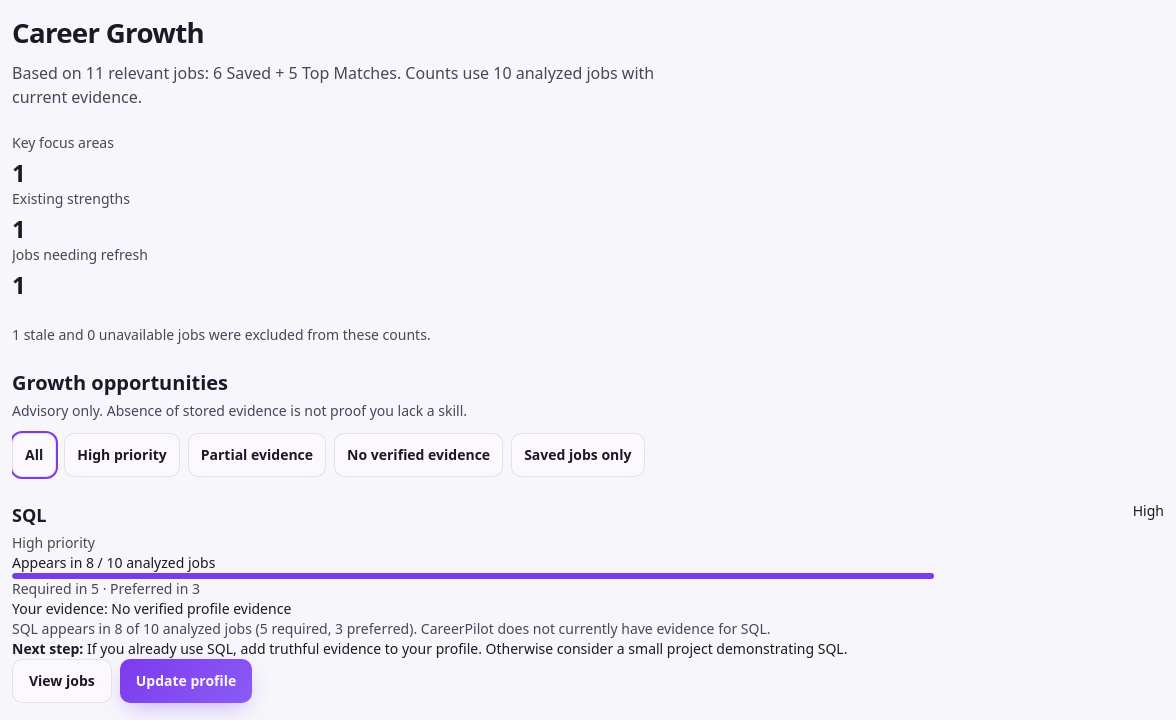
GrowthPage › filters high priority and unknown evidence
Expected: the heading "SQL" is shown, [12,504,46,528]
Click the button "High priority" at (122,456), box [64,434,180,478]
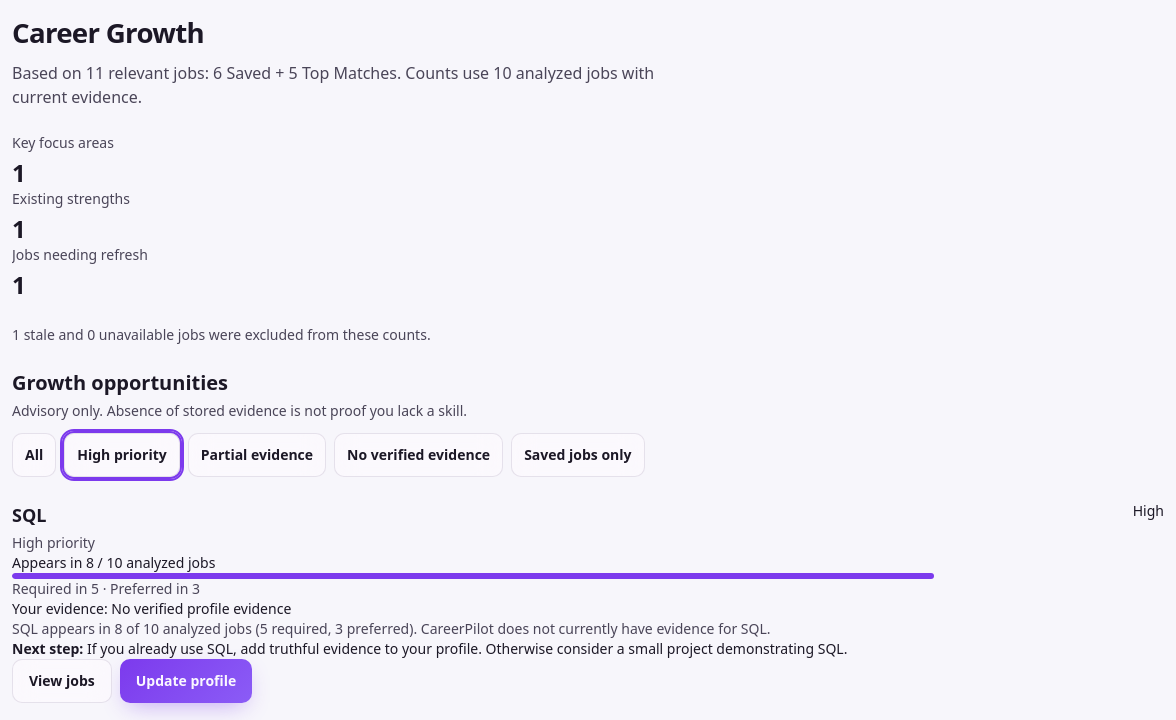
Expected: the heading "SQL" is shown, [12,504,46,528]
Click the button "Partial evidence" at (257,456), box [188,434,326,478]
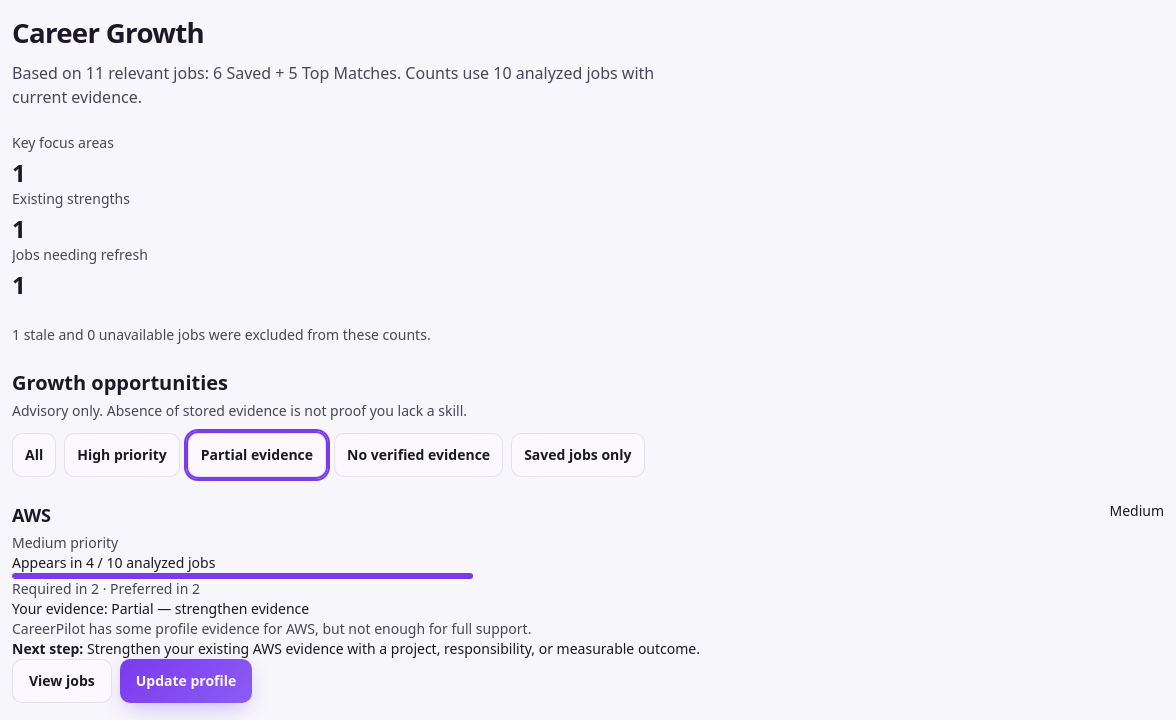
Expected: the heading "AWS" is shown, [12,504,51,528]
Expected: the heading "SQL" is gone
Click the button "No verified evidence" at (419,456), box [334,434,503,478]
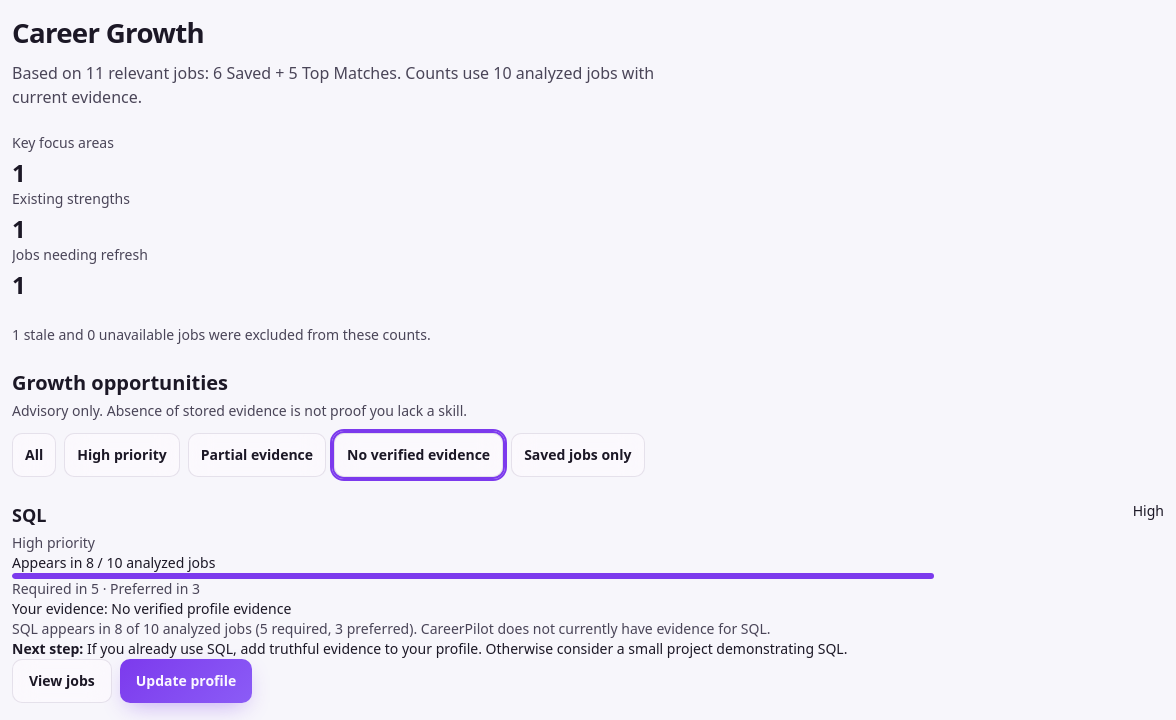
Expected: the heading "SQL" is shown, [12,504,46,528]
